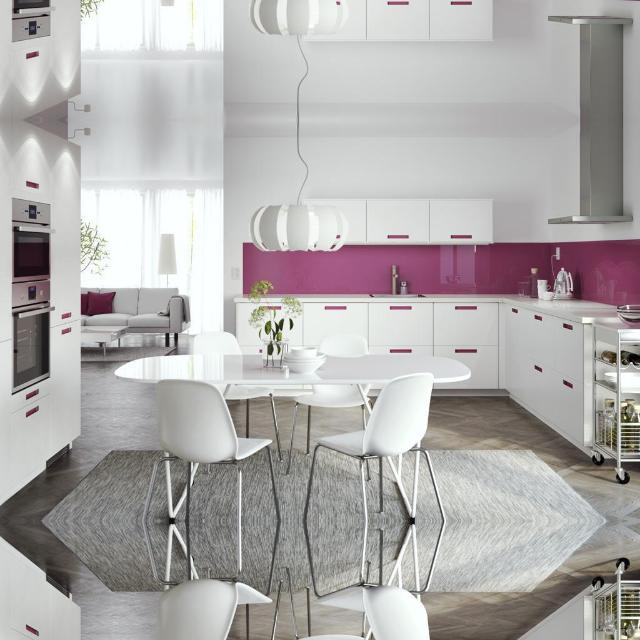chair: (304, 373, 446, 520), (142, 379, 281, 520), (304, 522, 446, 640), (142, 522, 281, 640)
couch: (81, 286, 190, 345)
curtain: (81, 186, 222, 332), (81, 0, 222, 52)
lamp: (158, 233, 178, 286)
light: (250, 119, 349, 250), (250, 0, 349, 119)
plant: (248, 279, 302, 368)
rug: (430, 450, 604, 520), (430, 522, 604, 592), (45, 452, 162, 520), (45, 522, 162, 590), (309, 449, 362, 520), (309, 522, 362, 593), (190, 464, 236, 520), (190, 522, 236, 578), (366, 460, 408, 520), (366, 522, 408, 582), (241, 449, 275, 520), (241, 522, 275, 593), (274, 454, 310, 520), (274, 522, 310, 588), (418, 460, 440, 520), (418, 522, 440, 582), (149, 465, 168, 520), (149, 522, 168, 576), (170, 543, 186, 582), (170, 460, 186, 498)
table: (115, 354, 470, 385), (81, 325, 129, 356)
